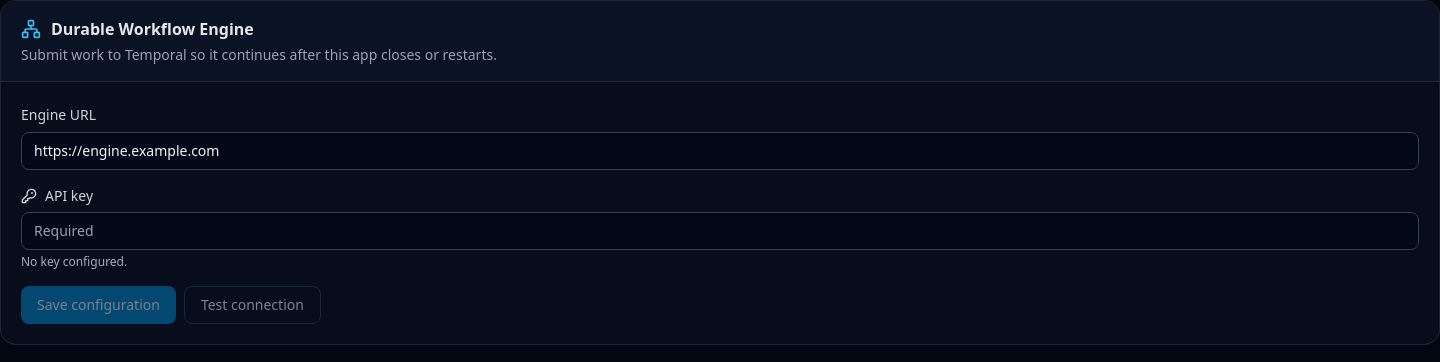
Scenario: DurableWorkflowSettings › keeps save disabled until a key is entered when none is stored
Expected: the button "Save configuration" is disabled, [21,286,176,324]
Type "new-key" into the password field with placeholder "Required" at (720, 231), box [21,212,1419,250]
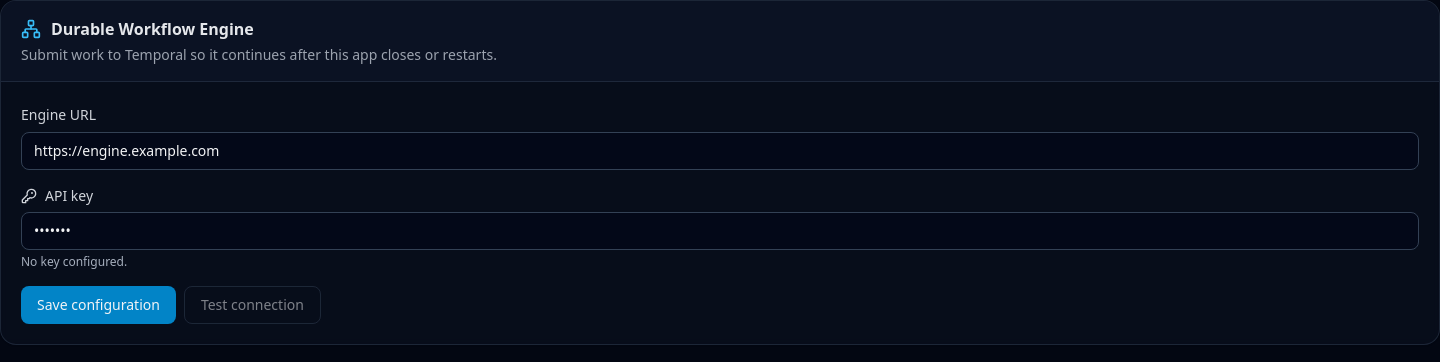
Now the button "Save configuration" is enabled, box [21,286,176,324]
